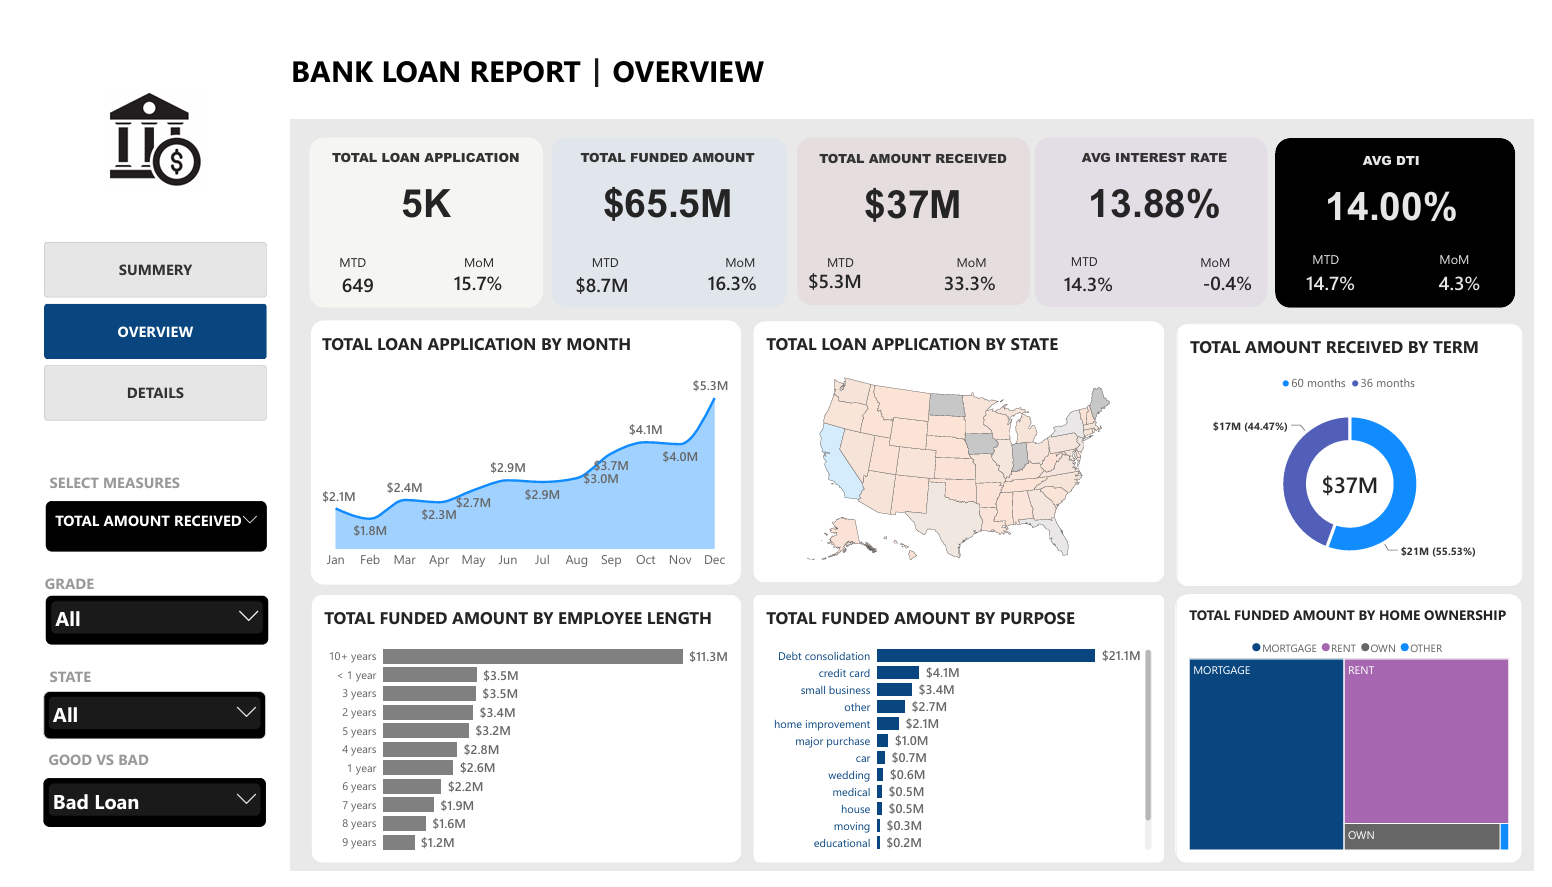

What the dashboard file says about the page in this screenshot:
{"tool":"powerbi","page":{"name":"OVERVIEW","canvas":[1920,1080],"ordinal":1},"visuals":[{"type":"shape","box":[0,0,1920.4,126.8],"z":0},{"type":"shape","box":[0,0,344,1080],"z":1000},{"type":"shape","box":[368.3,149.7,296,216],"z":2000},{"type":"cardVisual","fields":{"Data":["bank_loan.TOTAL LOAN APPLICATION"]},"box":[368.3,146,294.4,135.6],"z":3000},{"type":"cardVisual","fields":{"Data":["bank_loan.MTD"]},"box":[392.5,305,85,61.2],"z":4000},{"type":"cardVisual","fields":{"Data":["bank_loan.MoM"]},"box":[535,297.5,114.3,72.9],"z":5000},{"type":"shape","box":[674.8,149.8,298.6,215.7],"z":6000},{"type":"cardVisual","fields":{"Data":["bank_loan.TOTAL FUND"]},"box":[683.3,146,277.9,135.9],"z":7000},{"type":"cardVisual","fields":{"Data":["bank_loan.MTD funded amount"]},"box":[688.8,304.8,126.7,61],"z":8000},{"type":"textbox","box":[406.1,297.5,80.4,22.5],"z":9000},{"type":"textbox","box":[726.4,297.3,52.2,22.2],"z":10000},{"type":"cardVisual","fields":{"Data":["bank_loan.MoM funded amount"]},"box":[857.1,297.1,115.7,74.3],"z":11000},{"type":"textbox","box":[563.6,297.3,88.7,36.6],"z":12000},{"type":"textbox","box":[895.5,297.3,88.7,36.6],"z":13000},{"type":"shape","box":[985.5,150.2,295.7,212.9],"z":14000},{"type":"cardVisual","fields":{"Data":["bank_loan.TOTAL AMOUNT RECEIVED"]},"box":[984.1,147.3,297.8,135.6],"z":15000},{"type":"cardVisual","fields":{"Data":["bank_loan.MTD received amount"]},"box":[984.3,301.4,134.3,60],"z":16000},{"type":"textbox","box":[1023.6,297.3,43.3,23.3],"z":17000},{"type":"cardVisual","fields":{"Data":["bank_loan.MoM received amount"]},"box":[1155.7,295.7,118.6,72.9],"z":18000},{"type":"textbox","box":[1187.8,297.8,73.3,23.3],"z":19000},{"type":"shape","box":[1286.7,150,295,215],"z":20000},{"type":"cardVisual","fields":{"Data":["bank_loan.AVG INTEREST RATE"]},"box":[1300,146,277.9,135.9],"z":21000},{"type":"cardVisual","fields":{"Data":["bank_loan.MTD avg interest rate"]},"box":[1307.5,303.8,126.7,61],"z":22000},{"type":"textbox","box":[1333.2,296.1,45.4,23.1],"z":23000},{"type":"cardVisual","fields":{"Data":["bank_loan.MoM avg interest rate"]},"box":[1483.8,297.5,108.6,72.9],"z":24000},{"type":"textbox","box":[1497.3,297.3,55.7,37.1],"z":25000},{"type":"shape","box":[1592.2,151.1,303.3,214.4],"z":26000},{"type":"cardVisual","fields":{"Data":["bank_loan.AVG DTI"]},"box":[1600.3,149.8,277.9,135.9],"z":27000},{"type":"cardVisual","fields":{"Data":["bank_loan.MTD avg dti"]},"box":[1615,302.5,138.6,61.4],"z":28000},{"type":"textbox","box":[1639,294.1,46.2,23.1],"z":29000},{"type":"cardVisual","fields":{"Data":["bank_loan.MoM avg dti"]},"box":[1782.5,297.5,107.1,72.9],"z":30000},{"type":"textbox","box":[1800.5,294.1,88.7,36.6],"z":31000},{"type":"shape","box":[370,381.7,545,335],"z":32000},{"type":"shape","box":[930,383.3,521.7,331.7],"z":33000},{"type":"slicer","fields":{"Values":["bank_loan.address_state"]},"box":[31.3,852.3,282,61],"z":34000},{"type":"textbox","box":[0.3,821.3,130,62.5],"z":35000},{"type":"slicer","fields":{"Values":["bank_loan.Good v Bad Loan"]},"box":[31.3,962.3,282,62],"z":36000},{"type":"textbox","box":[35.7,926,130,62.5],"z":37000},{"type":"textbox","box":[752.2,40,200,61.1],"z":38000},{"type":"shape","box":[695,47.5,73.8,40],"z":39000},{"type":"textbox","box":[345,40,380,61.7],"z":40000},{"type":"areaChart","title":"TOTAL LOAN APPLICATION BY MONTH","fields":{"Category":["DATE TABLE.MONTH"],"Y":["bank_loan.TOTAL AMOUNT RECEIVED"]},"box":[368.3,383.3,546.7,333.3],"z":41000},{"type":"shapeMap","title":"TOTAL LOAN APPLICATION BY STATE","fields":{"Category":["bank_loan.address_state"],"Value":["bank_loan.TOTAL LOAN APPLICATION"]},"box":[930,381.7,521.7,333.3],"z":42000},{"type":"slicer","fields":{"Values":["Select Measures.Select Measures"]},"box":[34.3,611.3,280,64],"z":43000},{"type":"textbox","box":[30.3,574.8,182.5,37.5],"z":44000},{"type":"shape","box":[1465.6,385.6,440,333.3],"z":45000},{"type":"donutChart","title":"TOTAL AMOUNT RECEIVED BY TERM","fields":{"Category":["bank_loan.term"],"Y":["bank_loan.TOTAL AMOUNT RECEIVED"]},"box":[1466.7,385.6,438.9,334.4],"z":46000},{"type":"shape","box":[370,728.9,545.6,341.1],"z":47000},{"type":"clusteredBarChart","title":"TOTAL FUNDED AMOUNT BY EMPLOYEE LENGTH","fields":{"Category":["bank_loan.emp_length"],"Y":["bank_loan.TOTAL AMOUNT RECEIVED"]},"box":[370,728.9,545.6,341.1],"z":48000},{"type":"shape","box":[1465,728.8,440,341.2],"z":49000},{"type":"shape","box":[930,728.9,522.2,341.1],"z":50000},{"type":"clusteredBarChart","title":"TOTAL FUNDED AMOUNT BY PURPOSE","fields":{"Category":["bank_loan.purpose"],"Y":["bank_loan.TOTAL AMOUNT RECEIVED"]},"box":[930,728.9,522.2,341.1],"z":51000},{"type":"treemap","title":"TOTAL FUNDED AMOUNT BY HOME OWNERSHIP","fields":{"Group":["bank_loan.home_ownership"],"Values":["bank_loan.TOTAL AMOUNT RECEIVED"]},"box":[1466.2,727.5,438.8,342.5],"z":52000},{"type":"slicer","fields":{"Values":["bank_loan.grade"]},"box":[34.3,731.3,282,62],"z":53000},{"type":"textbox","box":[-0.7,701.7,130,62.5],"z":54000},{"type":"pageNavigator","box":[31.6,282.5,282.5,227.5],"z":55000},{"type":"image","box":[88.3,90,170,130],"z":56000}]}

Visuals, with their boxes in screenshot pixels (x1, y1, x2, y2), scaled from the page's 1920x1080 canvas onto the 1552x887 screenshot:
shape: box(0, 0, 1551, 104)
shape: box(0, 0, 278, 886)
shape: box(298, 123, 537, 300)
cardVisual - bank_loan.TOTAL LOAN APPLICATION: box(298, 120, 536, 231)
cardVisual - bank_loan.MTD: box(317, 250, 386, 301)
cardVisual - bank_loan.MoM: box(432, 244, 525, 304)
shape: box(545, 123, 787, 300)
cardVisual - bank_loan.TOTAL FUND: box(552, 120, 777, 232)
cardVisual - bank_loan.MTD funded amount: box(557, 250, 659, 300)
textbox: box(328, 244, 393, 263)
textbox: box(587, 244, 629, 262)
cardVisual - bank_loan.MoM funded amount: box(693, 244, 786, 305)
textbox: box(456, 244, 527, 274)
textbox: box(724, 244, 796, 274)
shape: box(797, 123, 1036, 298)
cardVisual - bank_loan.TOTAL AMOUNT RECEIVED: box(795, 121, 1036, 232)
cardVisual - bank_loan.MTD received amount: box(796, 248, 904, 297)
textbox: box(827, 244, 862, 263)
cardVisual - bank_loan.MoM received amount: box(934, 243, 1030, 303)
textbox: box(960, 245, 1019, 264)
shape: box(1040, 123, 1279, 300)
cardVisual - bank_loan.AVG INTEREST RATE: box(1051, 120, 1275, 232)
cardVisual - bank_loan.MTD avg interest rate: box(1057, 250, 1159, 300)
textbox: box(1078, 243, 1114, 262)
cardVisual - bank_loan.MoM avg interest rate: box(1199, 244, 1287, 304)
textbox: box(1210, 244, 1255, 275)
shape: box(1287, 124, 1532, 300)
cardVisual - bank_loan.AVG DTI: box(1294, 123, 1518, 235)
cardVisual - bank_loan.MTD avg dti: box(1305, 248, 1417, 299)
textbox: box(1325, 242, 1362, 261)
cardVisual - bank_loan.MoM avg dti: box(1441, 244, 1527, 304)
textbox: box(1455, 242, 1527, 272)
shape: box(299, 313, 740, 589)
shape: box(752, 315, 1173, 587)
slicer - bank_loan.address_state: box(25, 700, 253, 750)
textbox: box(0, 675, 105, 726)
slicer - bank_loan.Good v Bad Loan: box(25, 790, 253, 841)
textbox: box(29, 761, 134, 812)
textbox: box(608, 33, 770, 83)
shape: box(562, 39, 621, 72)
textbox: box(279, 33, 586, 84)
"TOTAL LOAN APPLICATION BY MONTH" areaChart: box(298, 315, 740, 589)
"TOTAL LOAN APPLICATION BY STATE" shapeMap: box(752, 313, 1173, 587)
slicer - Select Measures.Select Measures: box(28, 502, 254, 555)
textbox: box(24, 472, 172, 503)
shape: box(1185, 317, 1540, 590)
"TOTAL AMOUNT RECEIVED BY TERM" donutChart: box(1186, 317, 1540, 591)
shape: box(299, 599, 740, 879)
"TOTAL FUNDED AMOUNT BY EMPLOYEE LENGTH" clusteredBarChart: box(299, 599, 740, 879)
shape: box(1184, 599, 1540, 879)
shape: box(752, 599, 1174, 879)
"TOTAL FUNDED AMOUNT BY PURPOSE" clusteredBarChart: box(752, 599, 1174, 879)
"TOTAL FUNDED AMOUNT BY HOME OWNERSHIP" treemap: box(1185, 597, 1540, 879)
slicer - bank_loan.grade: box(28, 601, 256, 652)
textbox: box(0, 576, 105, 628)
pageNavigator: box(26, 232, 254, 419)
image: box(71, 74, 209, 181)
